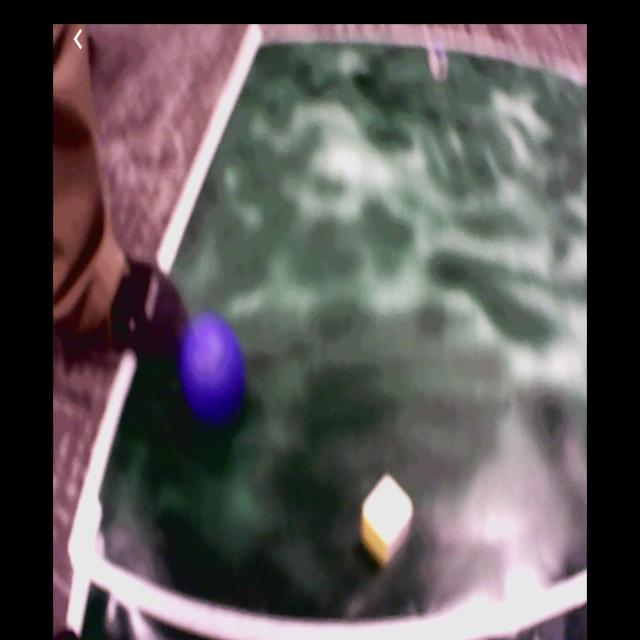ball: (181, 314, 247, 425)
